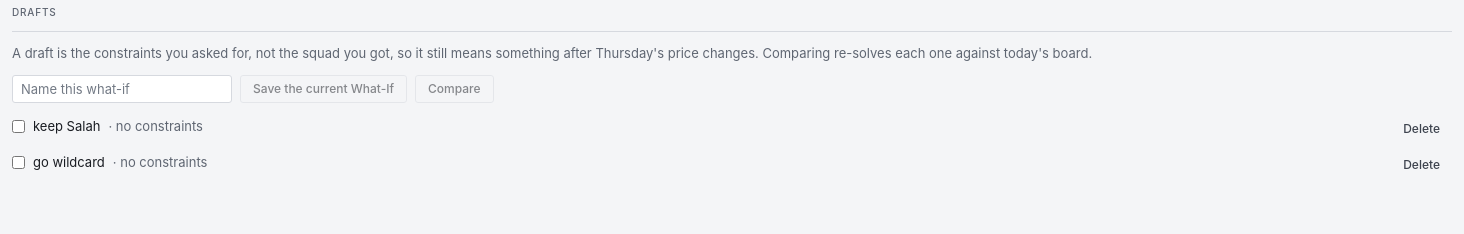
Test: DraftsTab › shows why a save was refused
Check: the text "keep Salah" is shown, box [33,117,100,136]
Type "third" into the field named "draft name" at [122, 89], box [12,75,232,103]
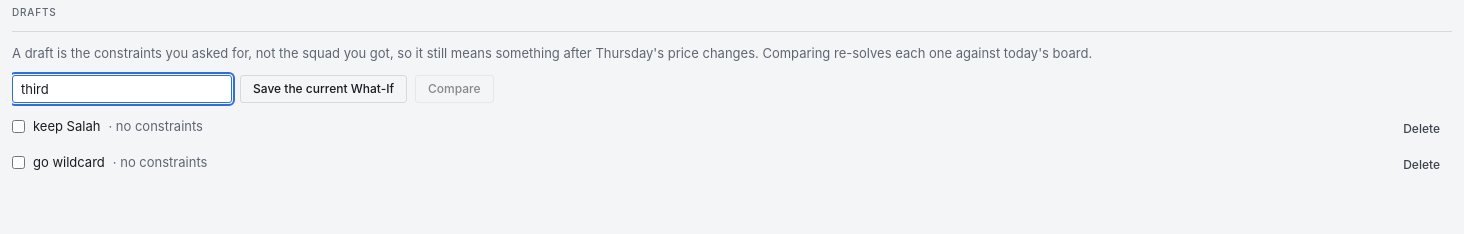
Click the button "Save the current What-If" at [324, 89], box [240,75,407,103]
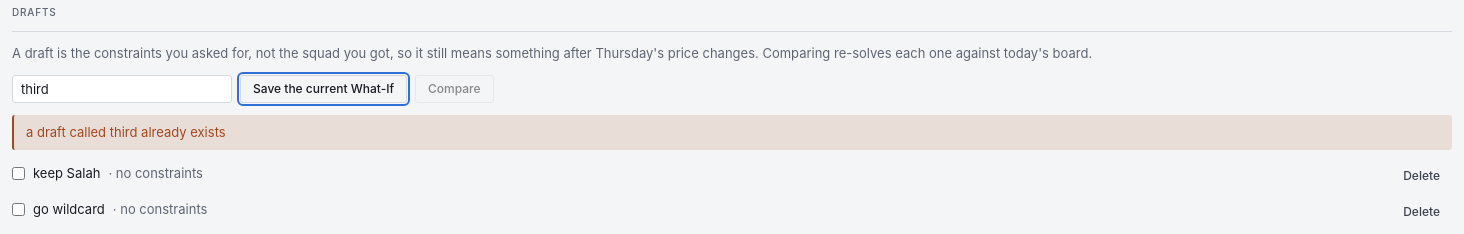
Check: the text "a draft called third already exists" is shown, box [26,124,226,140]
